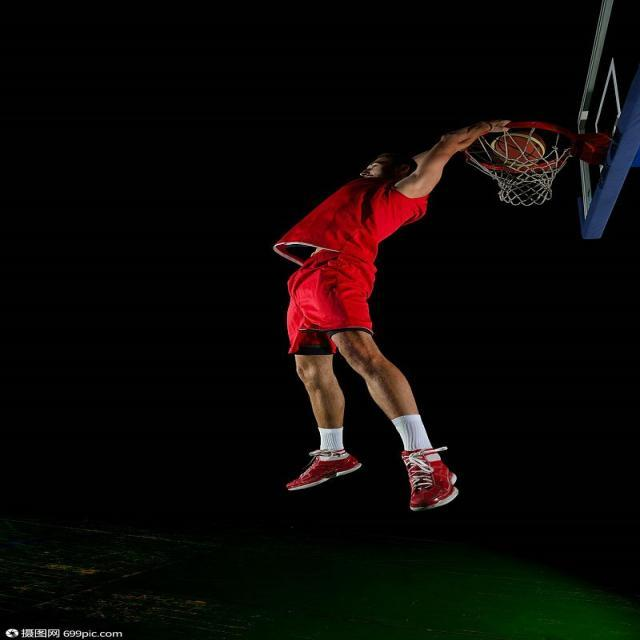rim: (490, 130, 544, 168)
